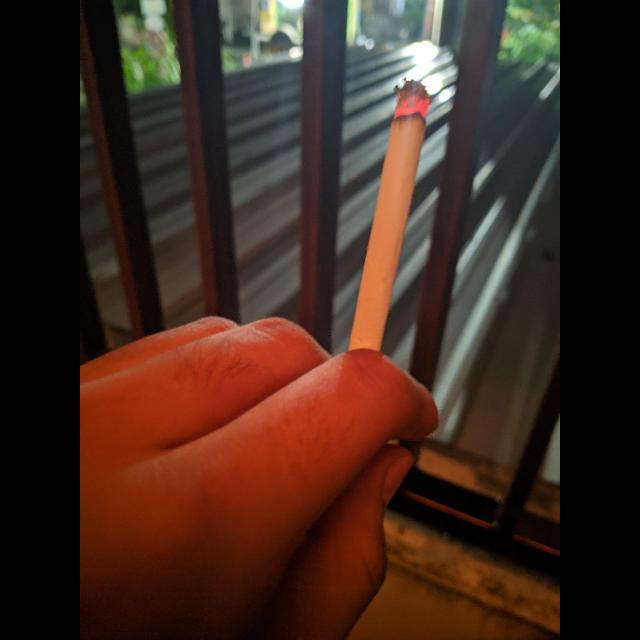rokok: (349, 70, 428, 354)
